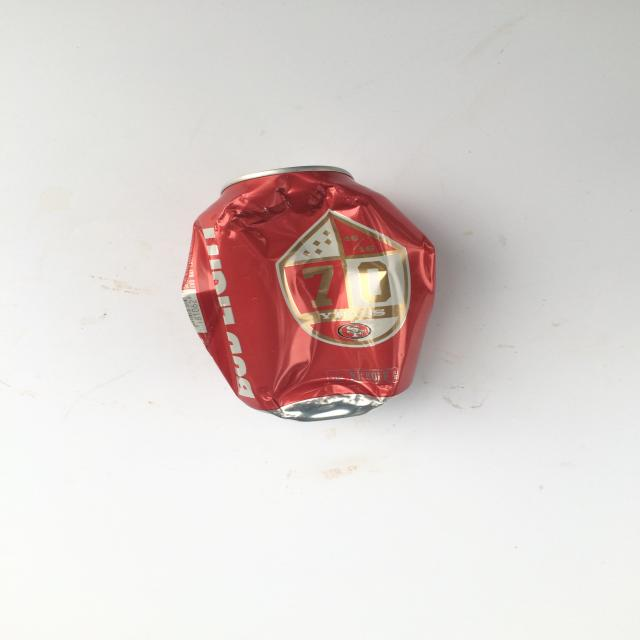metal: (180, 165, 437, 422)
